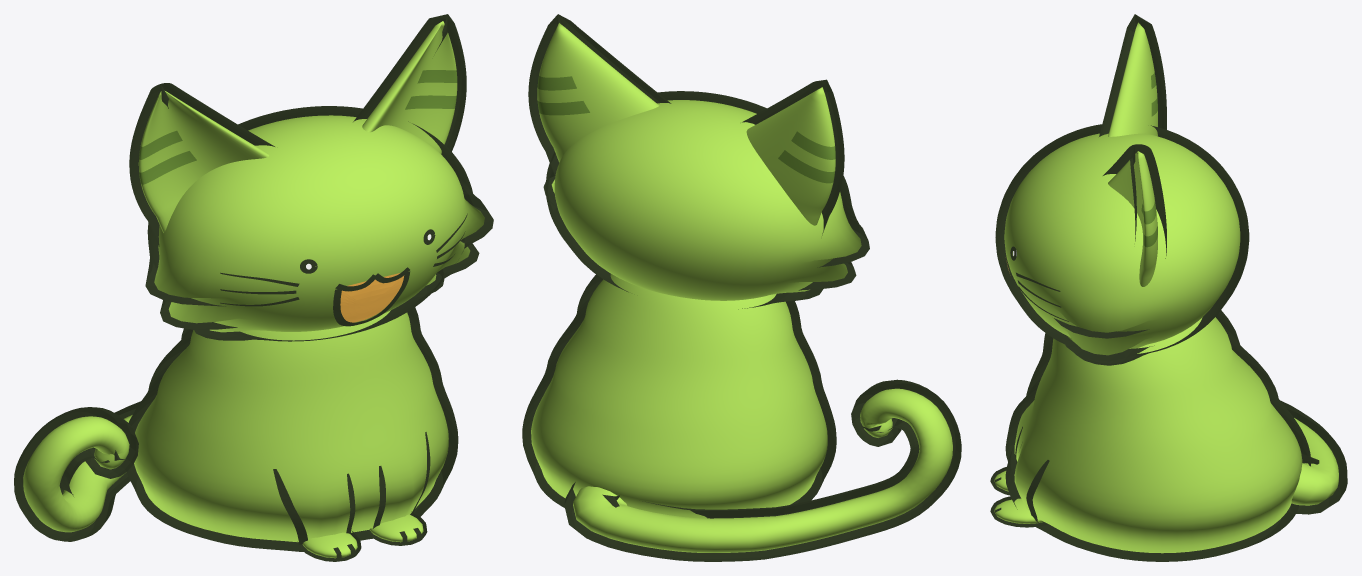
File: makiba-chubby.glb
The picture shows the model from 3 angles, left to right: view 1: azimuth 30°, elevation 25°; view 2: azimuth 150°, elevation 25°; view 3: azimuth 270°, elevation 25°; orthographic projection. The views are drawn at different scales.
Visible parts, largest first — view 1: makiba_chubby; view 2: makiba_chubby; view 3: makiba_chubby.
Boxes of the visible parts, bbox=[...] form: makiba_chubby: bbox=[14, 14, 493, 561]; makiba_chubby: bbox=[522, 14, 961, 561]; makiba_chubby: bbox=[990, 14, 1347, 561].
Bounding box in the file's own units: 0.1933 × 0.1877 × 0.1406.
